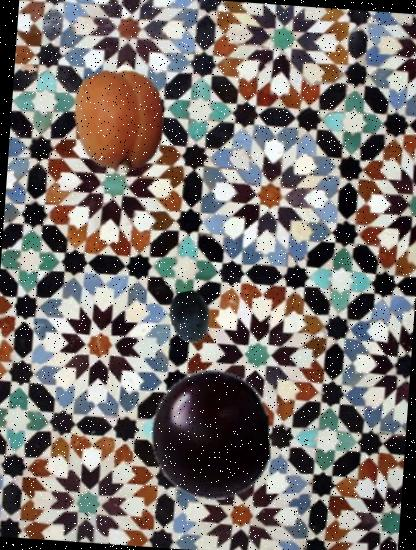Apricot: (64, 65, 176, 177)
Blueberry: (162, 289, 218, 345)
Cherry: (141, 365, 280, 504)
